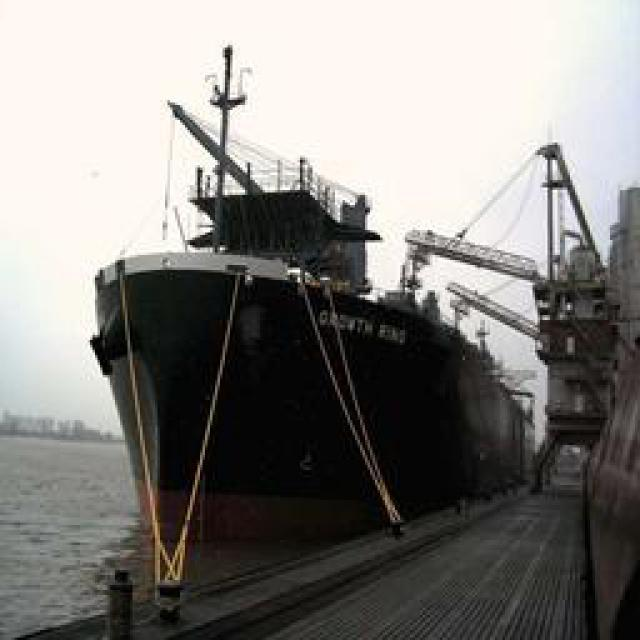Ship: (97, 95, 550, 608)
